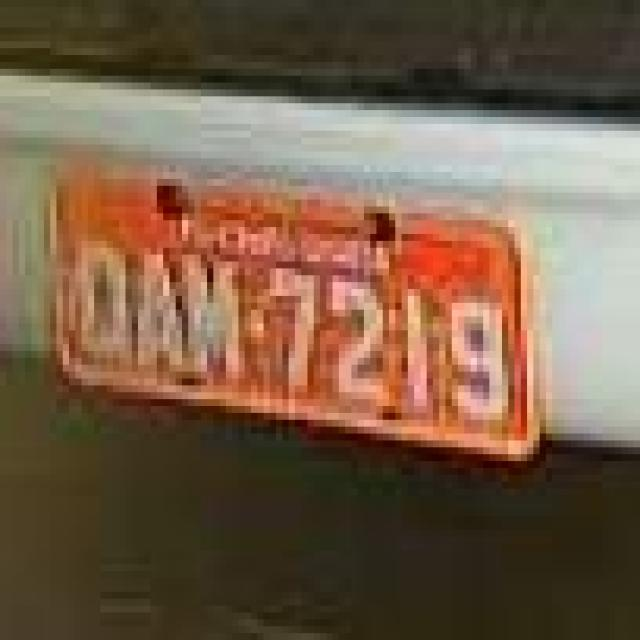1: (402, 274, 434, 419)
7: (266, 258, 322, 416)
9: (445, 286, 509, 436)
A: (132, 234, 188, 381)
M: (182, 242, 242, 389)
Q: (76, 224, 137, 371)
